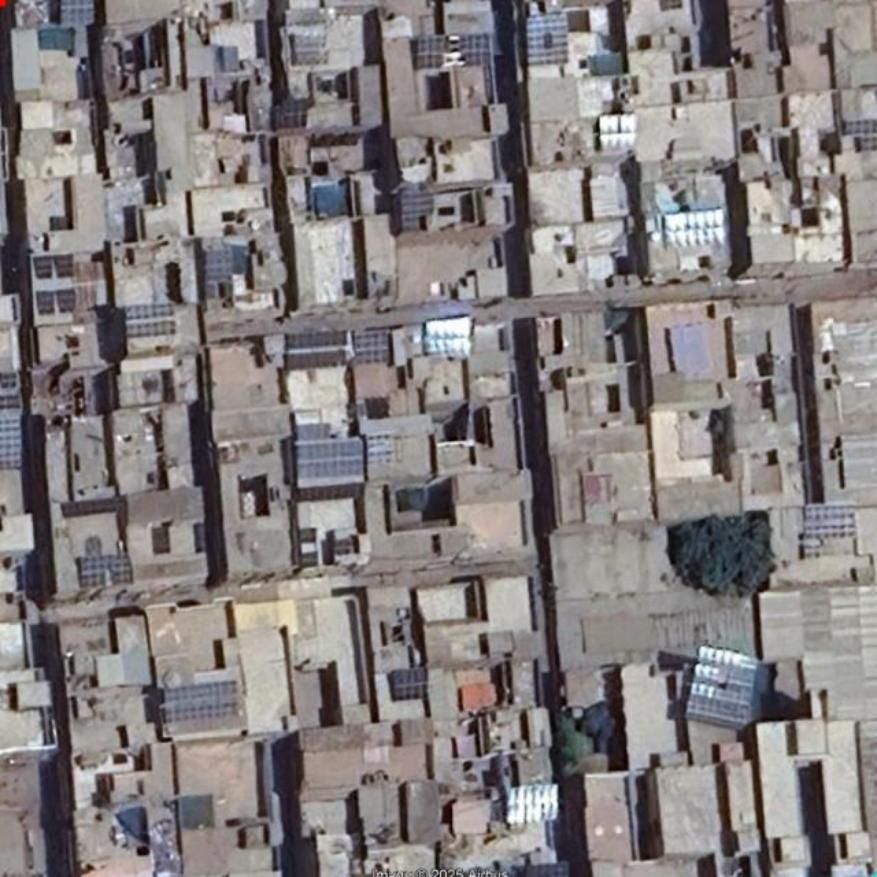Solarpanel: (684, 645, 762, 725), (162, 684, 239, 723), (417, 31, 493, 69), (297, 439, 365, 479), (285, 328, 348, 371), (424, 315, 474, 359), (526, 14, 568, 66), (664, 211, 722, 248), (80, 553, 134, 590), (805, 503, 859, 539), (508, 785, 557, 824), (125, 303, 175, 341), (598, 114, 638, 151), (0, 413, 26, 463), (355, 328, 392, 362), (59, 0, 106, 24), (394, 668, 426, 699), (367, 432, 392, 465), (206, 250, 232, 280), (529, 860, 572, 876), (56, 288, 76, 315), (845, 117, 876, 134), (54, 254, 74, 280), (33, 255, 52, 279), (37, 291, 55, 315), (1, 393, 23, 411), (858, 136, 876, 151), (1, 373, 18, 388)
